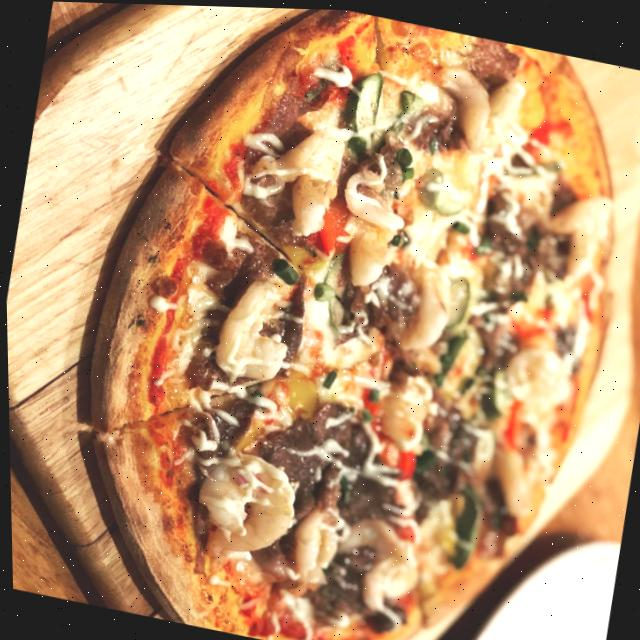pizza: (42, 1, 640, 640)
